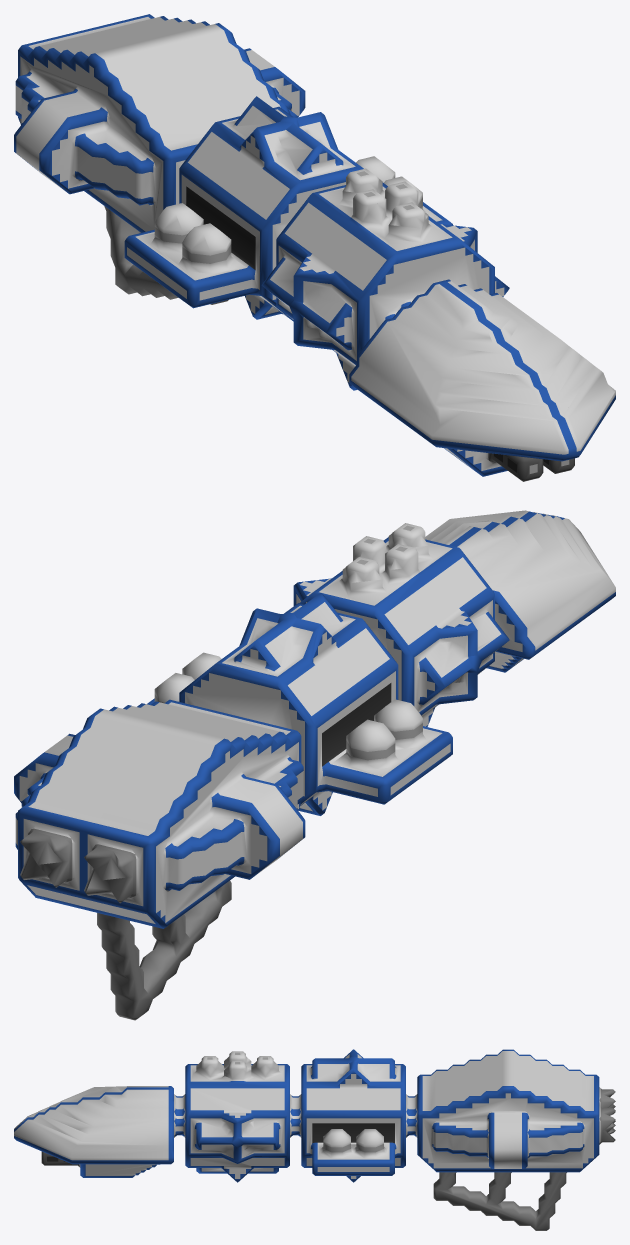
The model's file is diadochi-3-tamag-class.obj.
3 renders of one model, top to bottom at view 1: azimuth 30°, elevation 25°; view 2: azimuth 150°, elevation 25°; view 3: azimuth 270°, elevation 25°, orthographic. The views are drawn at different scales.
Bounding box in the file's own units: 33 × 34 × 109.
1 material, 1 textured.
